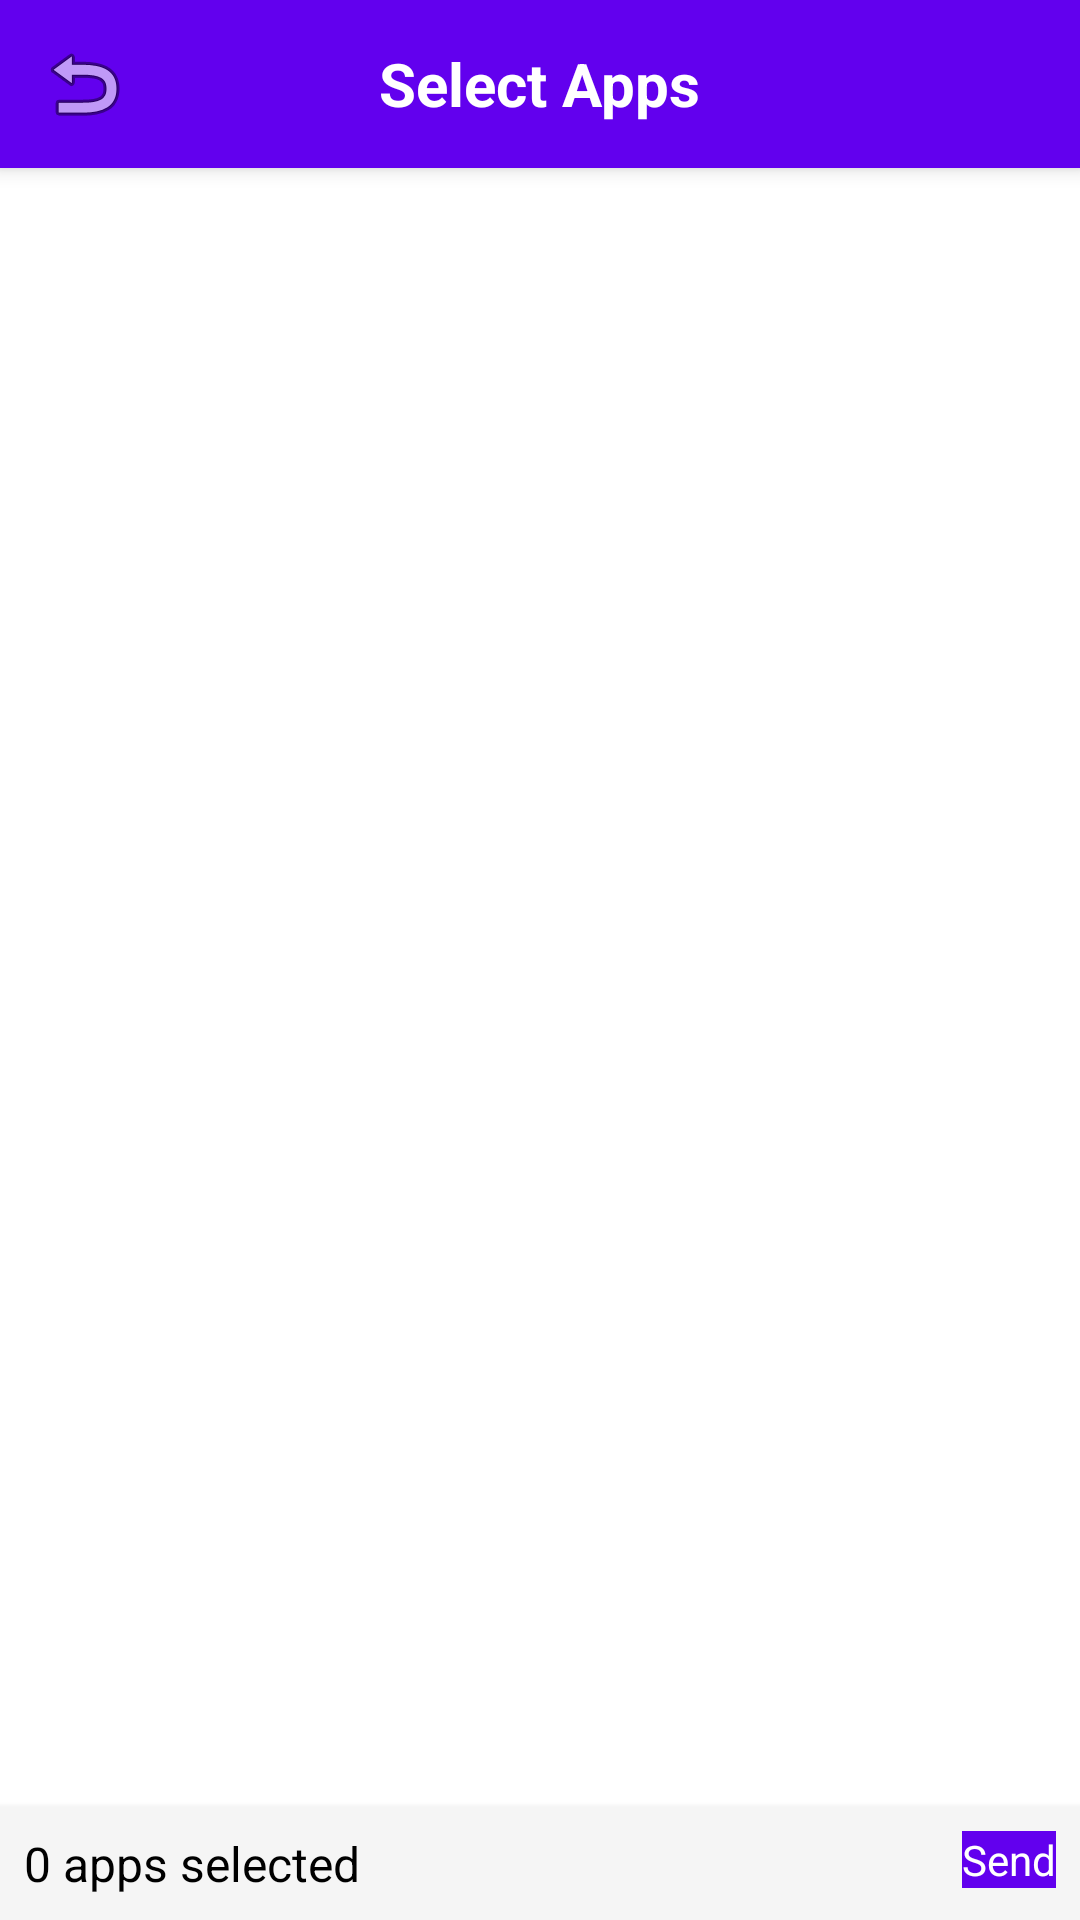

Screen size 1080×1920. Icon name, then its box in pixels as bbox=[x1, y1, x2, y2]:
Back: bbox=[51, 53, 120, 116]
